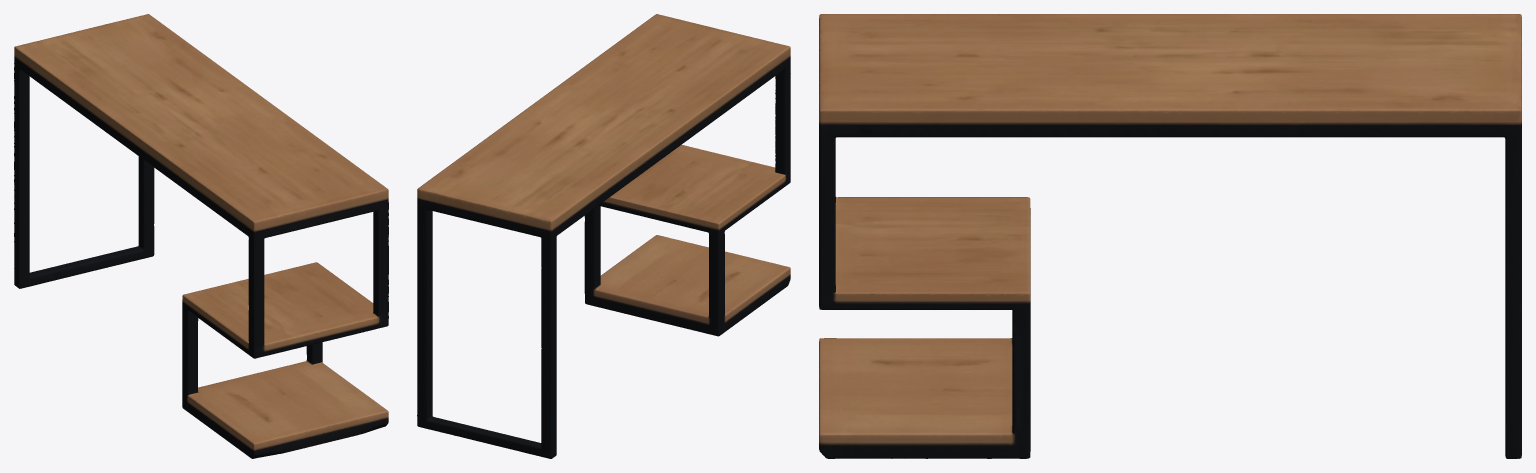
The model's file is minimalist_desk_original.glb.
3 renders of one model, left to right at view 1: azimuth 30°, elevation 25°; view 2: azimuth 150°, elevation 25°; view 3: azimuth 270°, elevation 25°, orthographic. The views are drawn at different scales.
Parts seen in each view (by area): view 1: world; view 2: world; view 3: world.
Part boxes in pixels (bbox=[...]): world: bbox=[14, 14, 388, 458]; world: bbox=[417, 14, 790, 458]; world: bbox=[819, 14, 1521, 458].
Bounding box in the file's own units: 0.3268 × 0.5517 × 1.
1 material, 1 textured.
